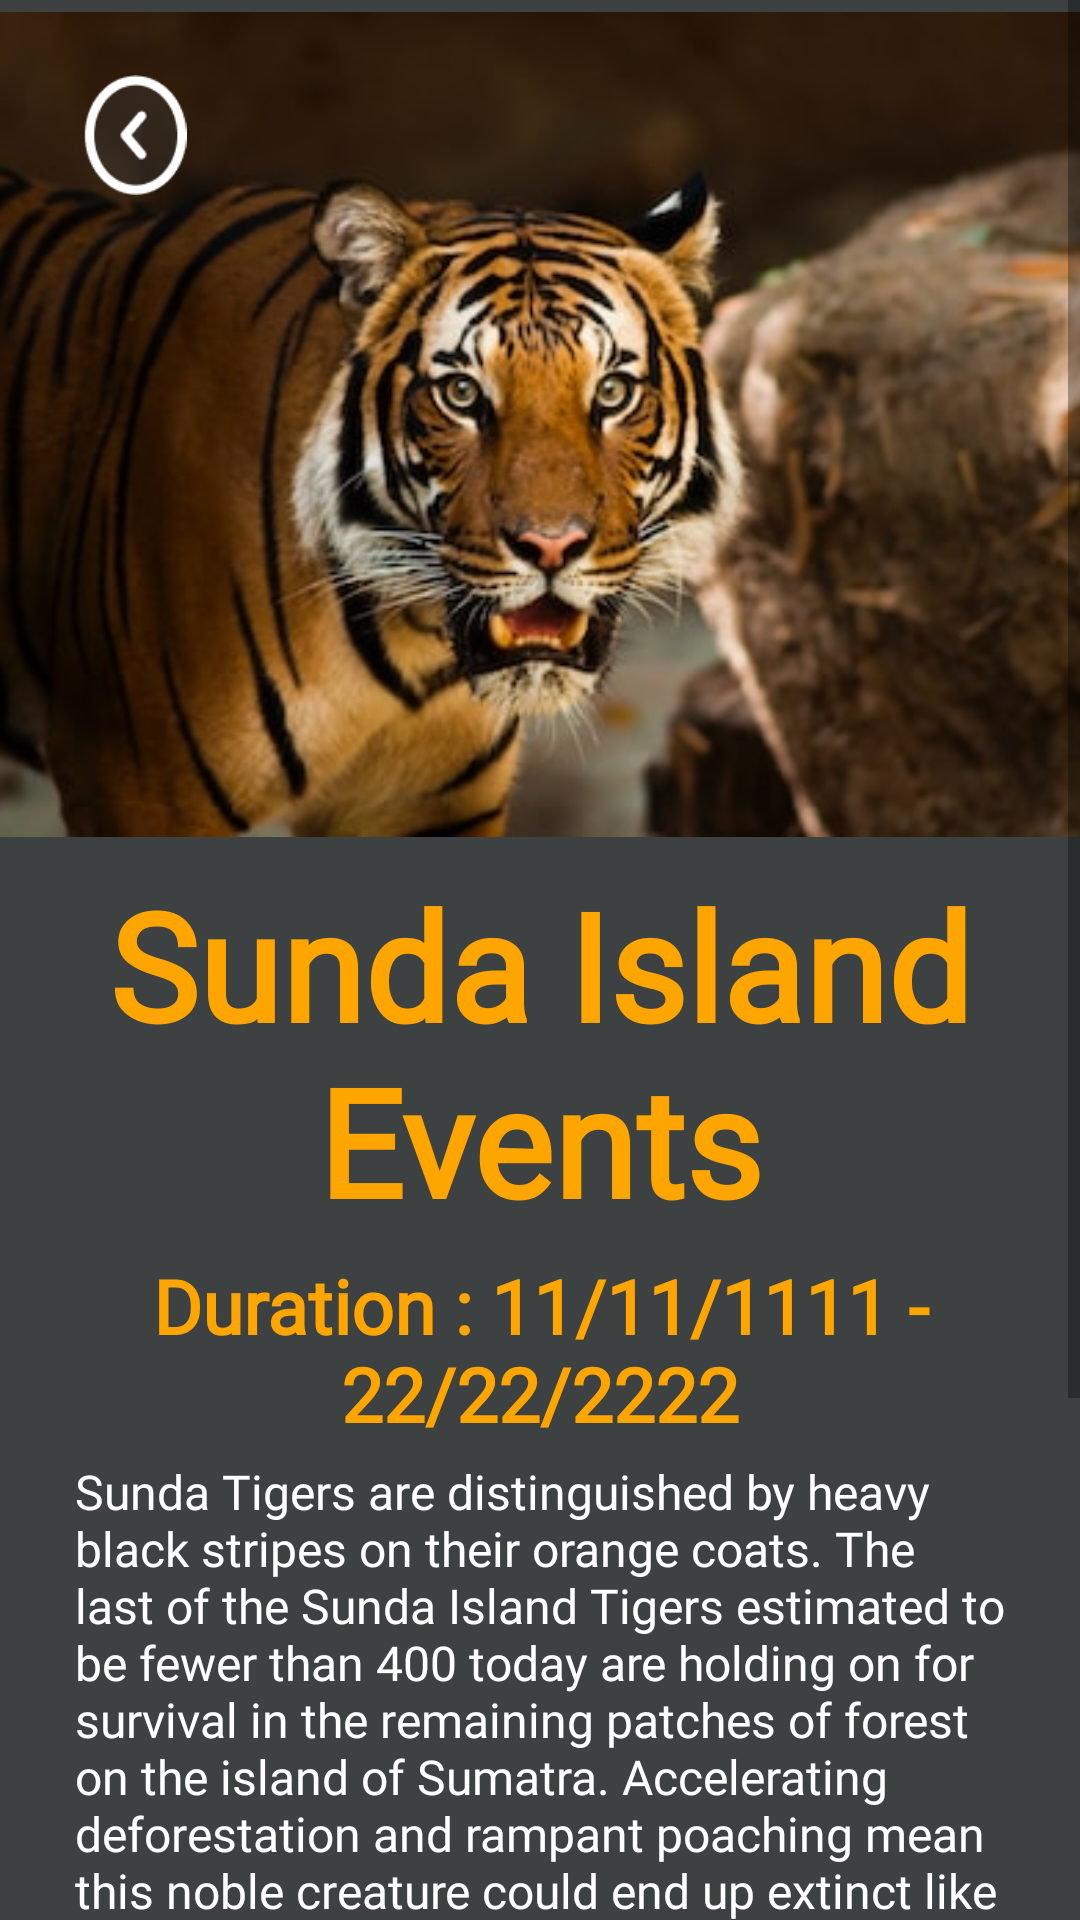

Icons on this 1080px×1920px Android screen, each with the point to tap as [x,y]:
back: [135,135]
